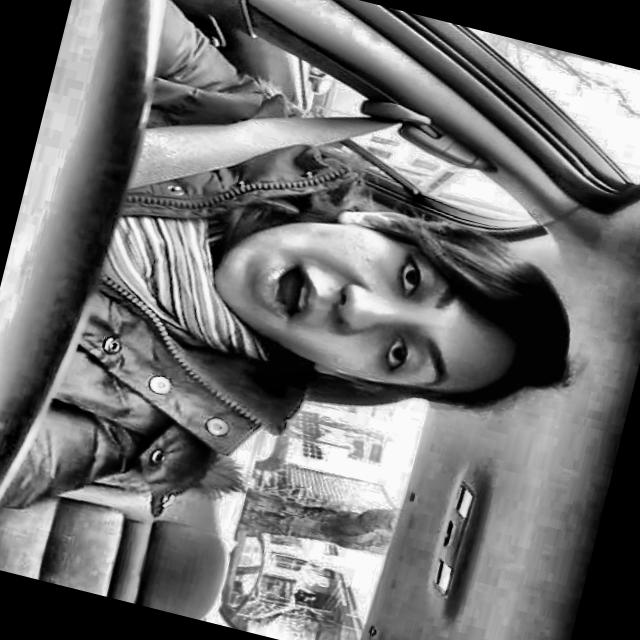open_eyes: (365, 320, 422, 390), (380, 241, 433, 305)
open_mouth: (242, 245, 327, 339)
